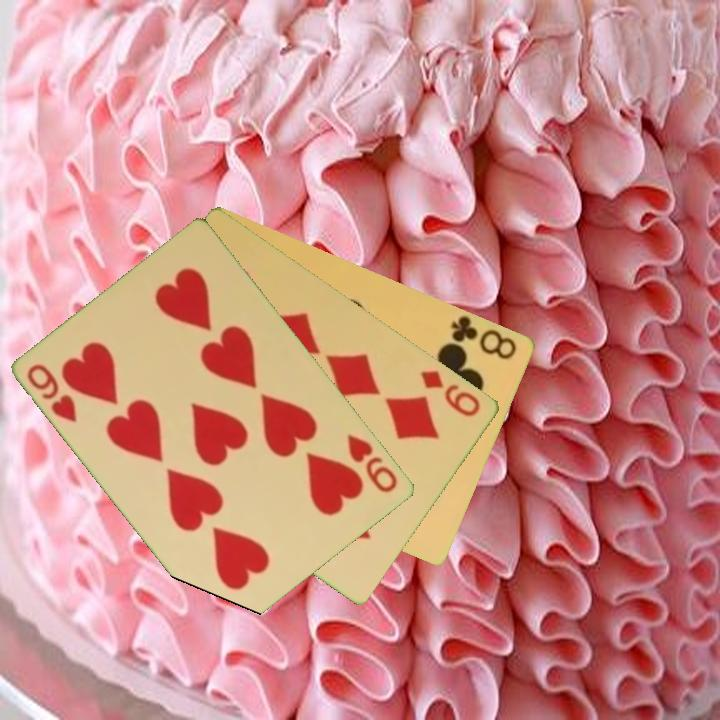8c: (448, 312, 521, 362)
9d: (418, 366, 484, 420)
9h: (23, 360, 81, 426), (344, 431, 401, 496)
